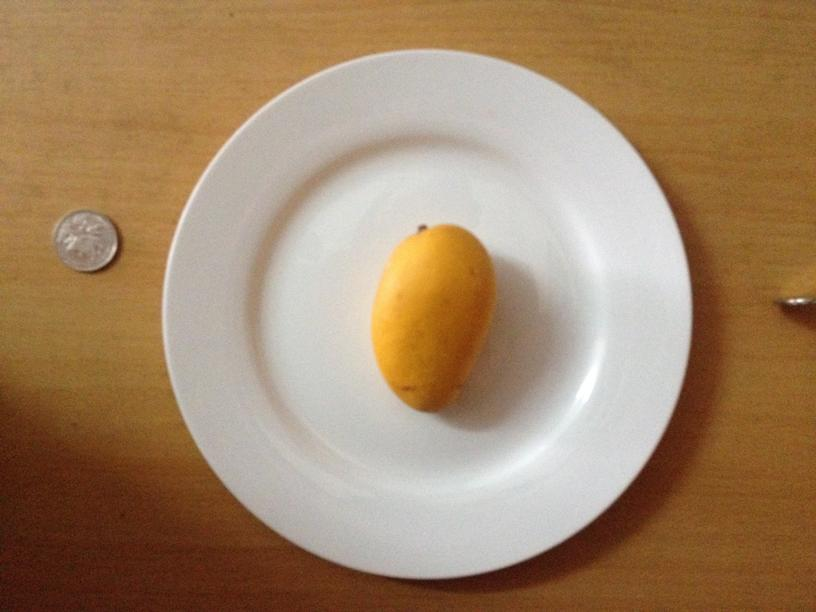coin: (51, 209, 120, 271)
mango: (376, 221, 496, 411)
